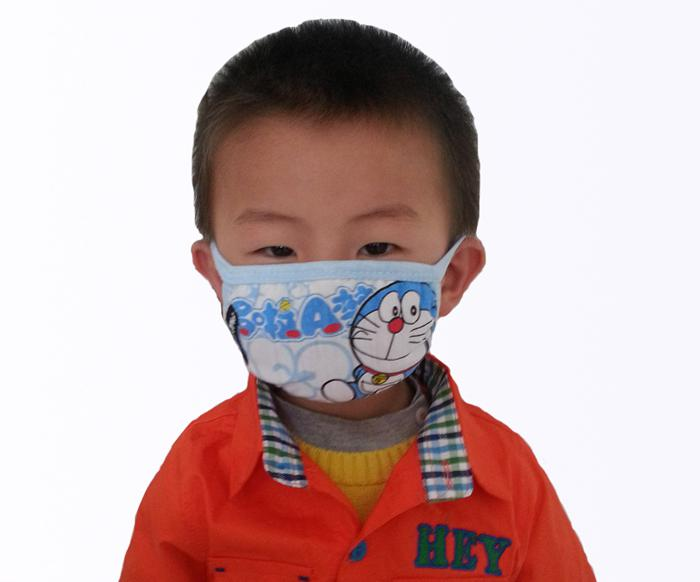OK: (219, 183, 439, 401)
